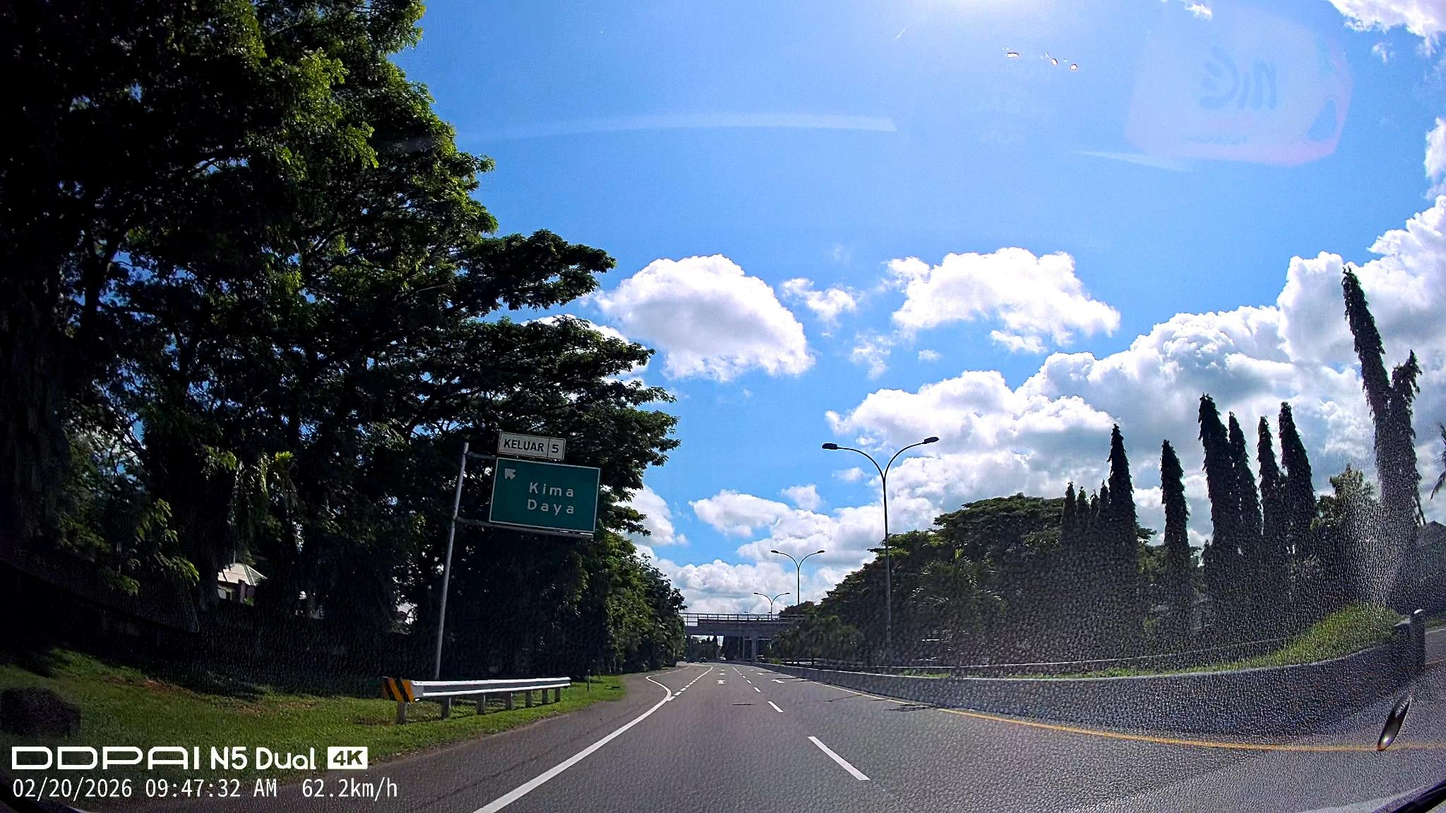rambu_teks: (485, 456, 602, 534)
